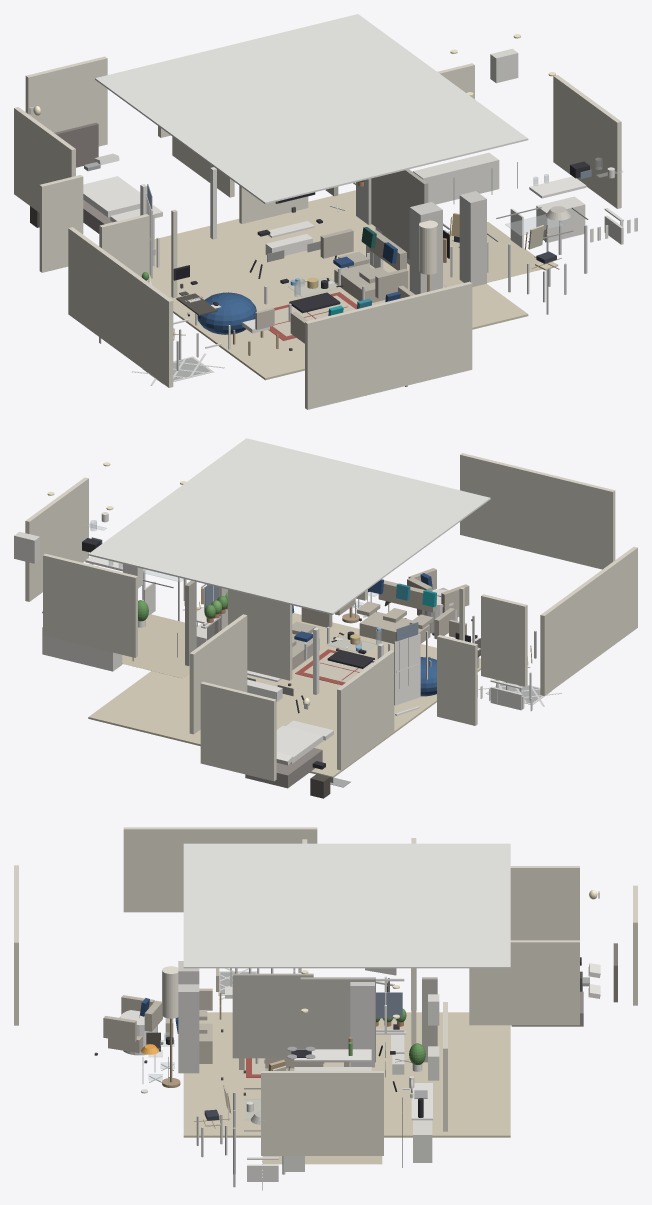
3 views of the same model, one above another, from view 1: azimuth 30°, elevation 25°; view 2: azimuth 150°, elevation 25°; view 3: azimuth 270°, elevation 25° (orthographic). The views are drawn at different scales.
Parts seen in each view (by area): view 1: ceiling_main, floor_main, wall_south, wall_west_living, wall_k_east, wall_bed_north, wall_bed_west, wall_nw_jog, kc_north_carcass, partition_ns_gray, pier_east_cab, floor_kitchen_patch (+23 smaller); view 2: ceiling_main, wall_south, floor_main, wall_west_living, wall_k_north, wall_bed_north, wall_bed_west, wall_k_east, wall_n_living_e, wall_nook_north, wall_bed_east, wall_nw_jog (+13 smaller); view 3: ceiling_main, floor_main, wall_k_east, wall_bed_east, wall_west_living, partition_ns_gray, wall_bed_west, wall_k_west_part, pier_east_cab, pier_north_cab, lamp_shade, wall_k_jog (+10 smaller).
Part boxes in pixels (x1,y1,x2,y2): ceiling_main: [95, 14, 528, 204]; floor_main: [149, 190, 528, 380]; wall_south: [305, 281, 472, 409]; wall_west_living: [68, 227, 173, 387]; wall_k_east: [553, 75, 621, 208]; wall_bed_north: [25, 56, 107, 146]; wall_bed_west: [14, 107, 75, 212]; wall_nw_jog: [39, 175, 83, 272]; kc_north_carcass: [413, 152, 499, 204]; partition_ns_gray: [382, 169, 428, 259]; pier_east_cab: [459, 191, 486, 286]; floor_kitchen_patch: [443, 222, 542, 287]; ceiling_main: [88, 438, 490, 614]; wall_south: [460, 453, 615, 569]; floor_main: [88, 613, 480, 777]; wall_west_living: [540, 546, 637, 695]; wall_k_north: [43, 553, 137, 657]; wall_bed_north: [200, 681, 276, 781]; wall_bed_west: [337, 650, 394, 770]; wall_k_east: [25, 477, 88, 601]; wall_n_living_e: [228, 589, 292, 680]; wall_nook_north: [481, 594, 527, 686]; wall_bed_east: [189, 614, 247, 734]; wall_nw_jog: [437, 635, 477, 725]; ceiling_main: [183, 843, 510, 968]; floor_main: [183, 1012, 510, 1137]; wall_k_east: [261, 1071, 383, 1155]; wall_bed_east: [469, 940, 579, 1025]; wall_west_living: [123, 827, 317, 912]; partition_ns_gray: [232, 973, 313, 1058]; wall_bed_west: [510, 866, 579, 940]; wall_k_west_part: [300, 977, 375, 1062]; pier_east_cab: [178, 984, 199, 1073]; pier_north_cab: [350, 982, 374, 1067]; lamp_shade: [162, 966, 178, 1018]; wall_k_jog: [422, 977, 437, 1062].
Bounding box in the file's own units: 8.54 × 3.11 × 8.87.
